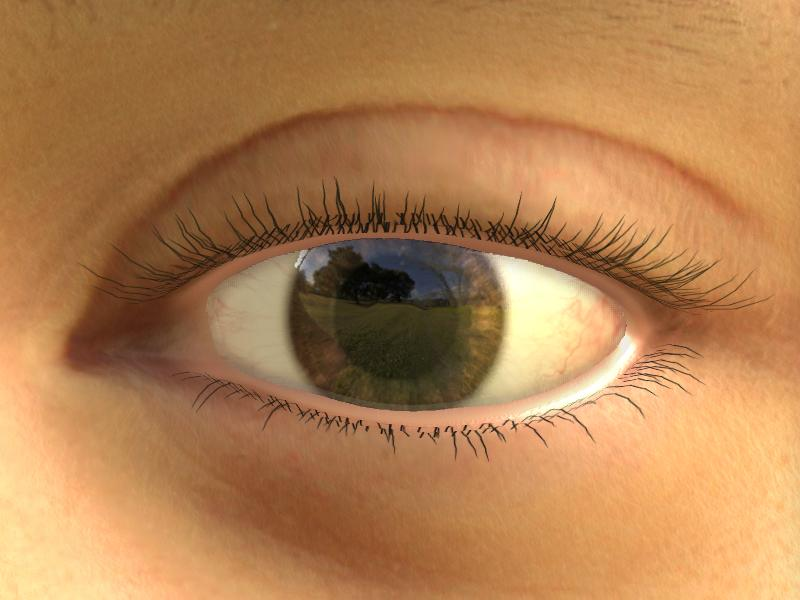eye: (289, 236, 508, 406)
